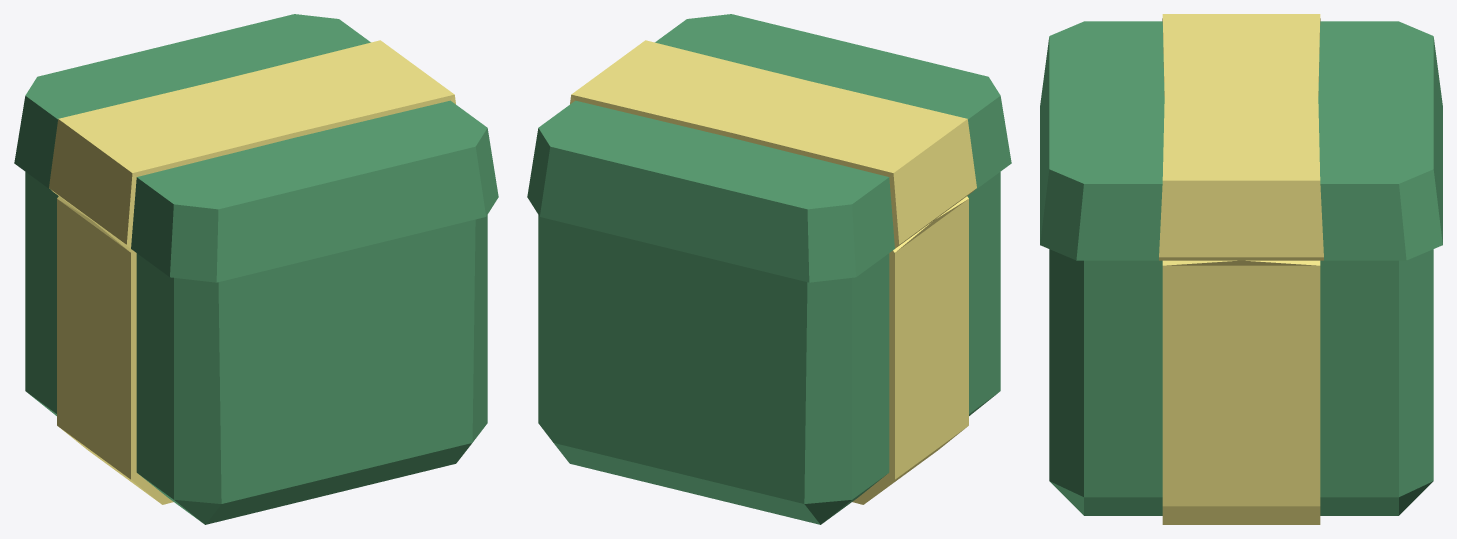
Rendered from present.glb.
The picture shows the model from 3 angles, left to right: view 1: azimuth 30°, elevation 25°; view 2: azimuth 150°, elevation 25°; view 3: azimuth 270°, elevation 25°; orthographic projection. The views are drawn at different scales.
Parts seen in each view (by area): view 1: present; view 2: present; view 3: present.
Part boxes in pixels (x1,y1,x2,y2): present: (14, 14, 498, 524); present: (527, 14, 1011, 524); present: (1040, 14, 1442, 524).
Size of the model in its own units: 2.15 by 2.07 by 2.1.
